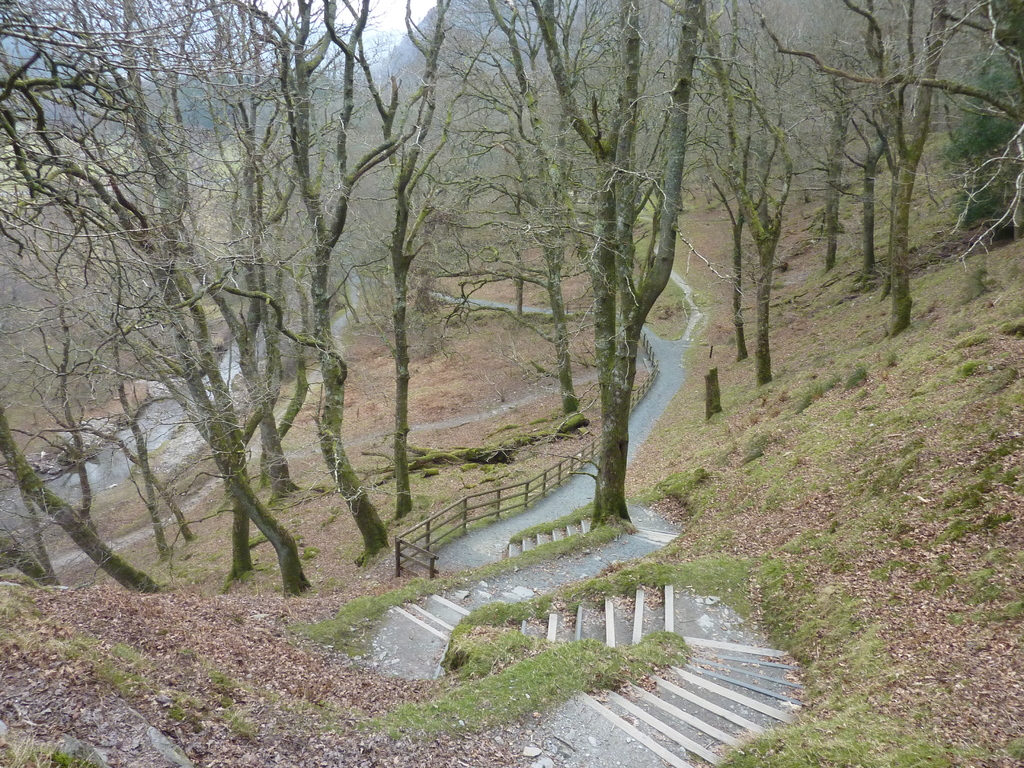Tree: (38, 0, 874, 604)
